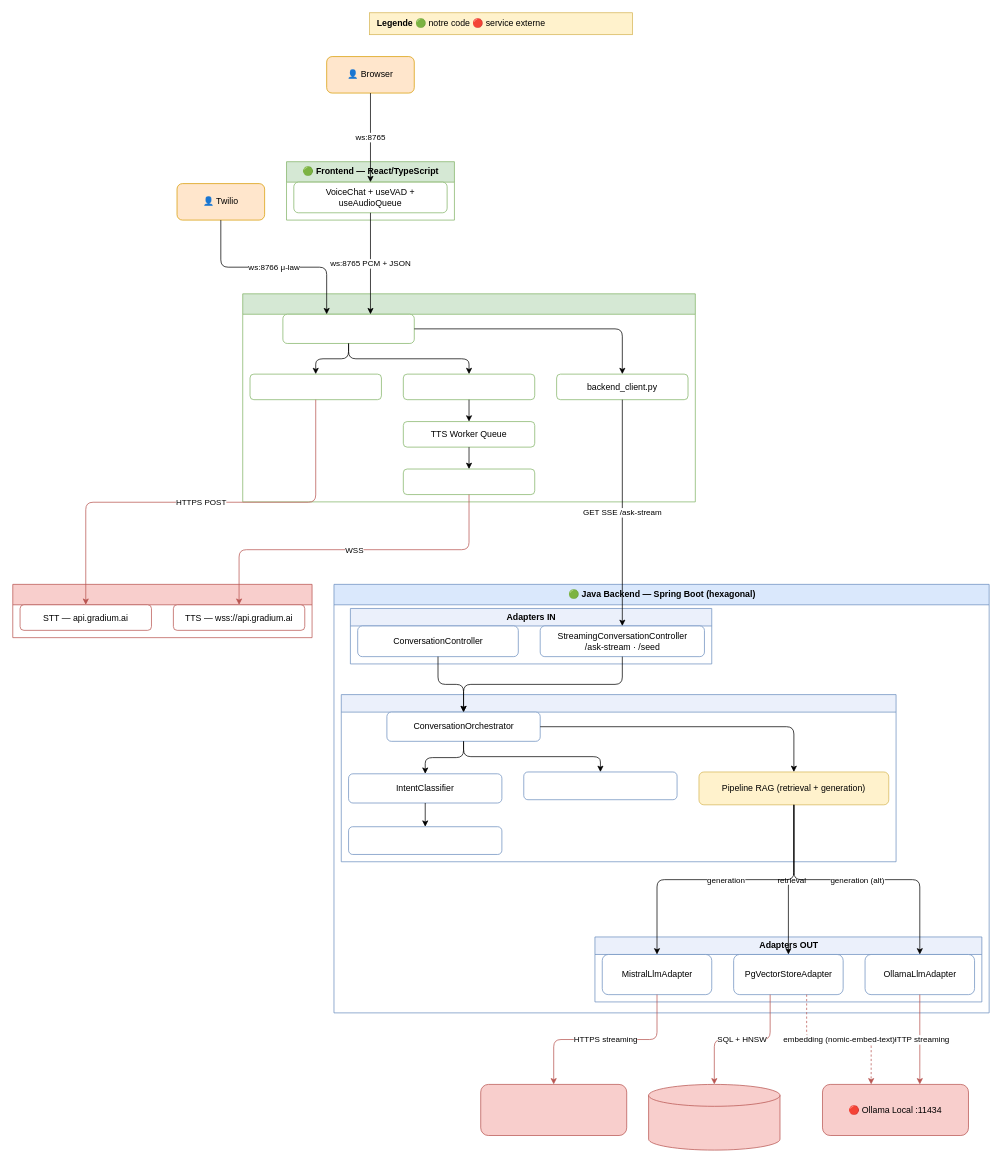
Image size: 1002x1163. Some labels were removed from this diagram. Here are the shapes that lost their labels. From the top down, the box of each, then its label:
(282, 314, 414, 343): bridge_server.py
(249, 373, 381, 400): gradium_stt.py
(242, 293, 695, 502): 🟢 Voice Agent — Python
(403, 373, 535, 400): sentence_splitter.py
(403, 468, 535, 495): gradium_tts.py
(12, 584, 312, 638): 🔴 Gradium Cloud API
(523, 771, 677, 800): EscalationDetector
(341, 694, 896, 862): Domain (pure Java)
(348, 826, 502, 854): AgentRegistry
(480, 1084, 627, 1136): 🔴 Mistral AI Cloud
(648, 1084, 780, 1150): 🔴 PostgreSQL + pgvector :5433
